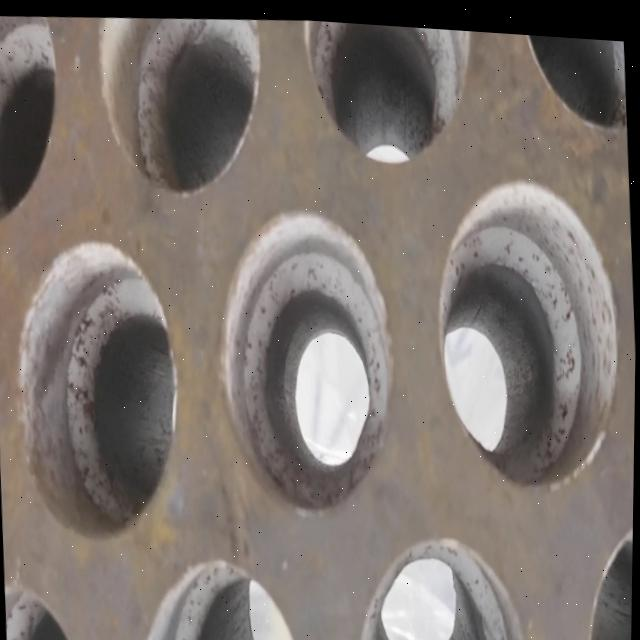Hole: (429, 162, 630, 494), (211, 197, 405, 522), (9, 230, 188, 550), (95, 8, 268, 204), (303, 16, 479, 168), (354, 522, 534, 640), (132, 546, 313, 640), (0, 13, 65, 231)
